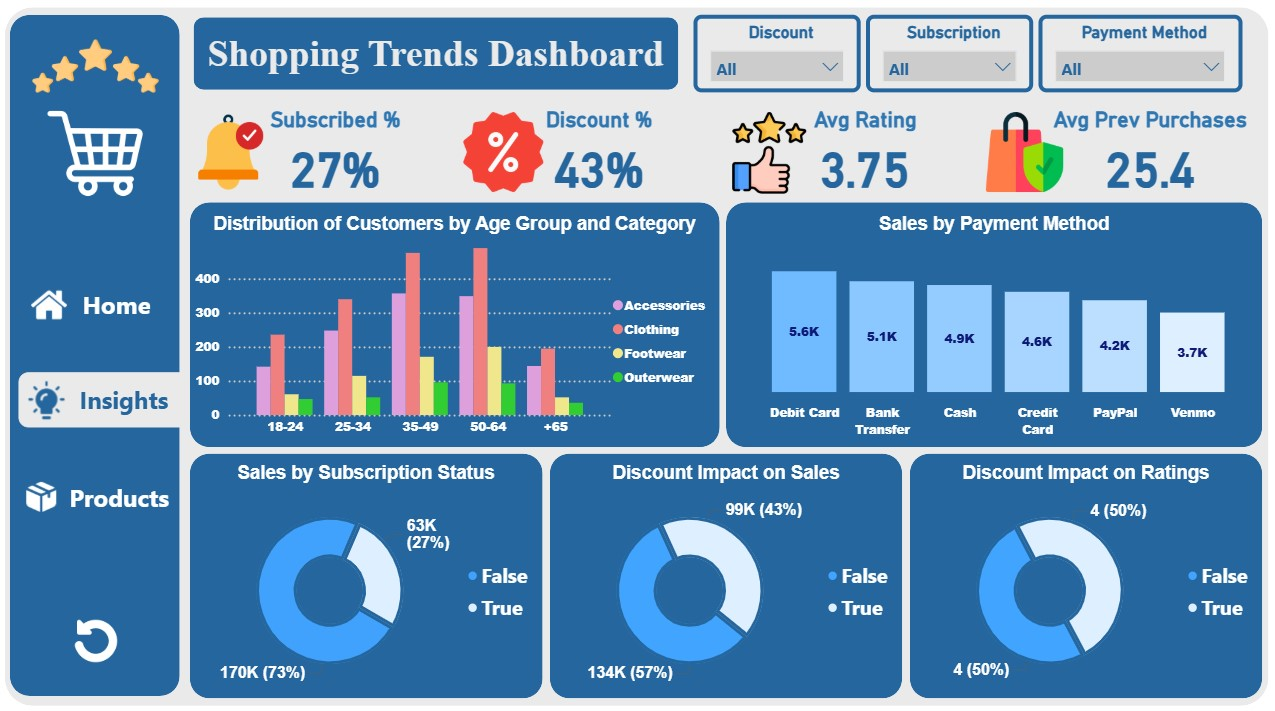

The page's visual inventory and layout, read from the dashboard file:
{"tool":"powerbi","page":{"name":"Insights ","canvas":[1280,720],"ordinal":1},"visuals":[{"type":"shape","box":[8.8,11.2,1263.8,698.8],"z":0},{"type":"shape","box":[13.8,18.8,170,681.2],"z":1000},{"type":"image","box":[27.5,105,142.5,105],"z":2000},{"type":"actionButton","title":"insights_default","box":[21.2,377.5,195,55],"z":3000},{"type":"actionButton","title":"products_default","box":[21.2,473.8,203.8,55],"z":4000},{"type":"actionButton","title":"home_default ","box":[26.2,281.2,188.8,55],"z":5000},{"type":"actionButton","title":"insights_selected","box":[22.5,376.2,211.2,55],"z":8000},{"type":"card","title":"Subscribed %","fields":{"Values":["Sheet1.% Subscribed Customers"]},"box":[224.5,111.2,228.8,90],"z":10000},{"type":"card","title":"Discount %","fields":{"Values":["Sheet1.% Discount Usage"]},"box":[502.3,111.2,201.2,90],"z":11000},{"type":"card","title":"Avg Prev Purchases","fields":{"Values":["Avg(Sheet1.Previous_Purchases)"]},"box":[1046.5,111.2,216.2,90],"z":12000},{"type":"shape","box":[193.8,206.2,530,245],"z":13000},{"type":"clusteredColumnChart","title":"Distribution of Customers by Age Group and Category","fields":{"Category":["Sheet1.Age_Group"],"Series":["Sheet1.Category"],"Y":["Count(Sheet1.Customer_ID)"]},"box":[193.8,217.5,530,233.8],"z":14000},{"type":"shape","box":[193.8,457.5,353,245],"z":15000},{"type":"shape","box":[730,206.2,536.2,245],"z":16000},{"type":"image","box":[8.8,0,181.2,140],"z":17000},{"type":"clusteredColumnChart","title":"Sales by Payment Method","fields":{"Category":["Sheet1.Payment_Method"],"Y":["Sum(Sheet1.Purchase_Amount_USD)"]},"box":[730,217.5,536.2,233.8],"z":18000},{"type":"image","box":[70,615,60,60],"z":19000},{"type":"shape","box":[197.5,21.2,485,72.5],"z":21000},{"type":"textbox","box":[197.5,31.2,485,63.8],"z":22000},{"type":"image","box":[189.7,111.2,90,90],"z":23000},{"type":"image","box":[462.3,111.2,90,90],"z":24000},{"type":"image","box":[983.8,111.2,90,90],"z":25000},{"type":"shape","box":[553.8,457.5,352.5,245],"z":26000},{"type":"shape","box":[913.8,457.5,352.5,245],"z":27000},{"type":"pieChart","title":"Discount Impact on Sales","fields":{"Category":["Sheet1.Discount_Applied"],"Y":["Sum(Sheet1.Purchase_Amount_USD)"]},"box":[553.8,466.2,352.5,236.2],"z":28000},{"type":"pieChart","title":"Sales by Subscription Status","fields":{"Category":["Sheet1.Subscription_Status"],"Y":["Sum(Sheet1.Purchase_Amount_USD)"]},"box":[193.8,466.2,352.5,236.2],"z":29000},{"type":"donutChart","title":"Discount Impact on Ratings","fields":{"Category":["Sheet1.Discount_Applied"],"Y":["Avg(Sheet1.Review_Rating)"]},"box":[913.8,466.2,352.5,236.2],"z":30000},{"type":"card","title":"Avg Rating","fields":{"Values":["Avg(Sheet1.Review_Rating)"]},"box":[805.5,111.2,128.8,90],"z":31000},{"type":"image","box":[721,111.3,103.8,91.2],"z":32000},{"type":"slicer","title":"Discount","fields":{"Values":["Sheet1.Discount_Applied"]},"box":[697.5,18.8,167.5,77.5],"z":33000},{"type":"slicer","title":"Subscription","fields":{"Values":["Sheet1.Subscription_Status"]},"box":[869.7,18.8,167.5,77.5],"z":34000},{"type":"slicer","title":"Payment Method","fields":{"Values":["Sheet1.Payment_Method"]},"box":[1042.2,18.8,203.8,77.5],"z":35000}]}

Visuals, with their boxes in screenshot pixels (x1, y1, x2, y2), scaled from the page's 1280x720 canvas onto the 1275x711 screenshot:
shape: (x1=9, y1=11, x2=1268, y2=701)
shape: (x1=14, y1=19, x2=183, y2=691)
image: (x1=27, y1=104, x2=169, y2=207)
"insights_default" actionButton: (x1=21, y1=373, x2=215, y2=427)
"products_default" actionButton: (x1=21, y1=468, x2=224, y2=522)
"home_default " actionButton: (x1=26, y1=278, x2=214, y2=332)
"insights_selected" actionButton: (x1=22, y1=371, x2=233, y2=426)
"Subscribed %" card: (x1=224, y1=110, x2=452, y2=199)
"Discount %" card: (x1=500, y1=110, x2=701, y2=199)
"Avg Prev Purchases" card: (x1=1042, y1=110, x2=1258, y2=199)
shape: (x1=193, y1=204, x2=721, y2=446)
"Distribution of Customers by Age Group and Category" clusteredColumnChart: (x1=193, y1=215, x2=721, y2=446)
shape: (x1=193, y1=452, x2=545, y2=694)
shape: (x1=727, y1=204, x2=1261, y2=446)
image: (x1=9, y1=0, x2=189, y2=138)
"Sales by Payment Method" clusteredColumnChart: (x1=727, y1=215, x2=1261, y2=446)
image: (x1=70, y1=607, x2=129, y2=667)
shape: (x1=197, y1=21, x2=680, y2=93)
textbox: (x1=197, y1=31, x2=680, y2=94)
image: (x1=189, y1=110, x2=279, y2=199)
image: (x1=460, y1=110, x2=550, y2=199)
image: (x1=980, y1=110, x2=1070, y2=199)
shape: (x1=552, y1=452, x2=903, y2=694)
shape: (x1=910, y1=452, x2=1261, y2=694)
"Discount Impact on Sales" pieChart: (x1=552, y1=460, x2=903, y2=694)
"Sales by Subscription Status" pieChart: (x1=193, y1=460, x2=544, y2=694)
"Discount Impact on Ratings" donutChart: (x1=910, y1=460, x2=1261, y2=694)
"Avg Rating" card: (x1=802, y1=110, x2=931, y2=199)
image: (x1=718, y1=110, x2=822, y2=200)
"Discount" slicer: (x1=695, y1=19, x2=862, y2=95)
"Subscription" slicer: (x1=866, y1=19, x2=1033, y2=95)
"Payment Method" slicer: (x1=1038, y1=19, x2=1241, y2=95)
